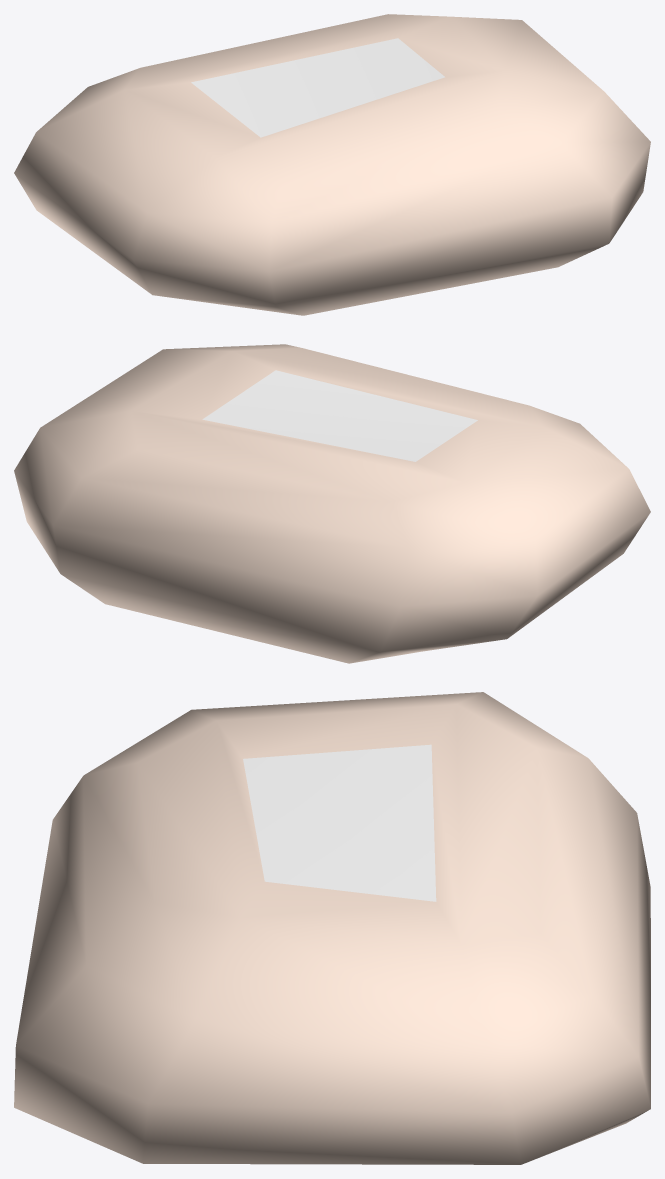
File: Props_Package_03.fbx
The picture shows the model from 3 angles, top to bottom: view 1: azimuth 30°, elevation 25°; view 2: azimuth 150°, elevation 25°; view 3: azimuth 270°, elevation 25°; orthographic projection. The views are drawn at different scales.
Parts seen in each view (by area): view 1: Props_Package_03; view 2: Props_Package_03; view 3: Props_Package_03.
Boxes of the visible parts, x1,y1,x2,y2 form: Props_Package_03: [14, 14, 650, 315]; Props_Package_03: [14, 344, 650, 663]; Props_Package_03: [14, 692, 650, 1164].
Size of the model in its own units: 63.85 by 18.36 by 47.65.
